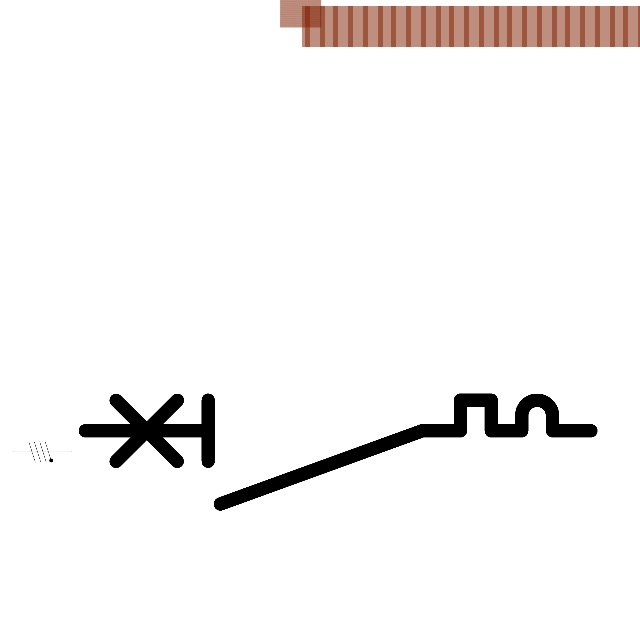interruptor_termomagnetico: (72, 387, 603, 517)
